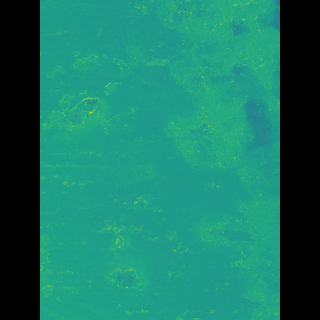Loch: (151, 0, 250, 320), (75, 42, 148, 146)
